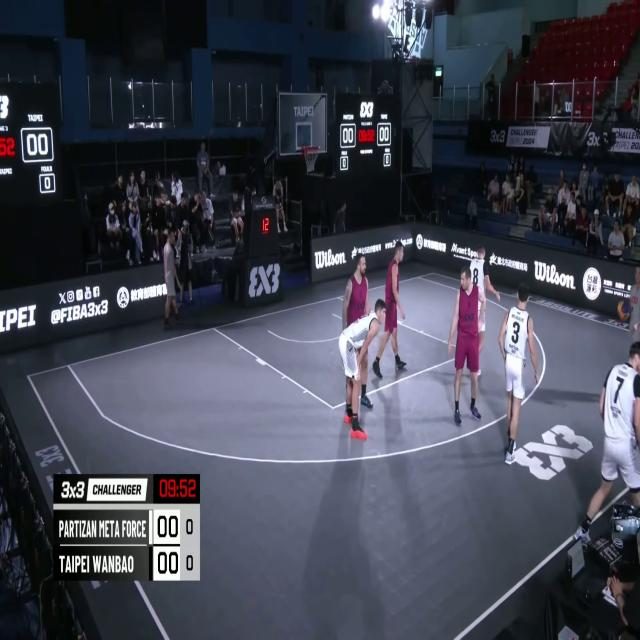ball: (616, 293, 631, 324)
hoop: (303, 144, 322, 174)
player: (496, 281, 540, 463), (336, 296, 386, 445), (448, 265, 485, 428), (372, 240, 412, 376), (342, 255, 368, 416), (468, 247, 498, 380)
